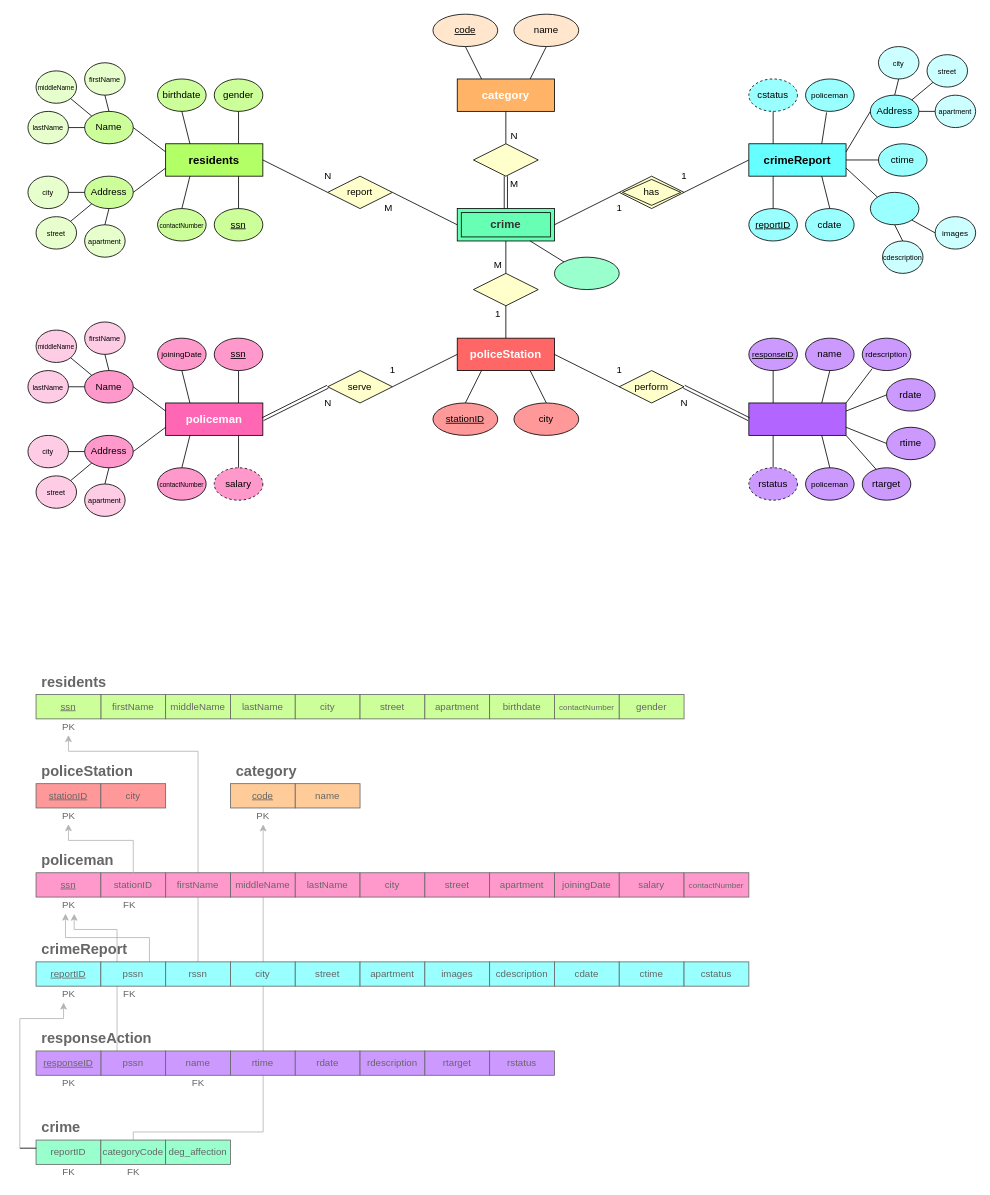
The diagram is 990 pixels wide and 1195 high, and some of its shapes have lost their labels. Here are the shapes that lost their labels. From the top down, the centre of each, then its label:
the point at 505,159: belong
the point at 894,208: more info
the point at 505,289: direct
the point at 586,273: affectionDegree
the point at 797,418: reponseAction
